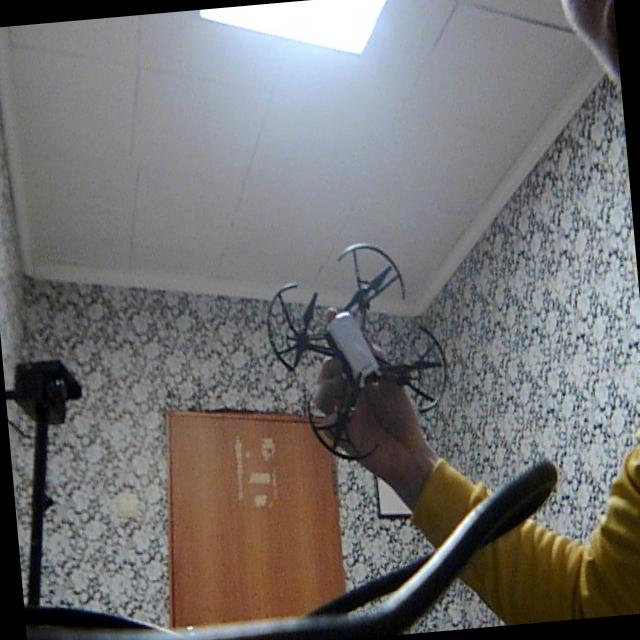drone: (251, 222, 463, 471)
